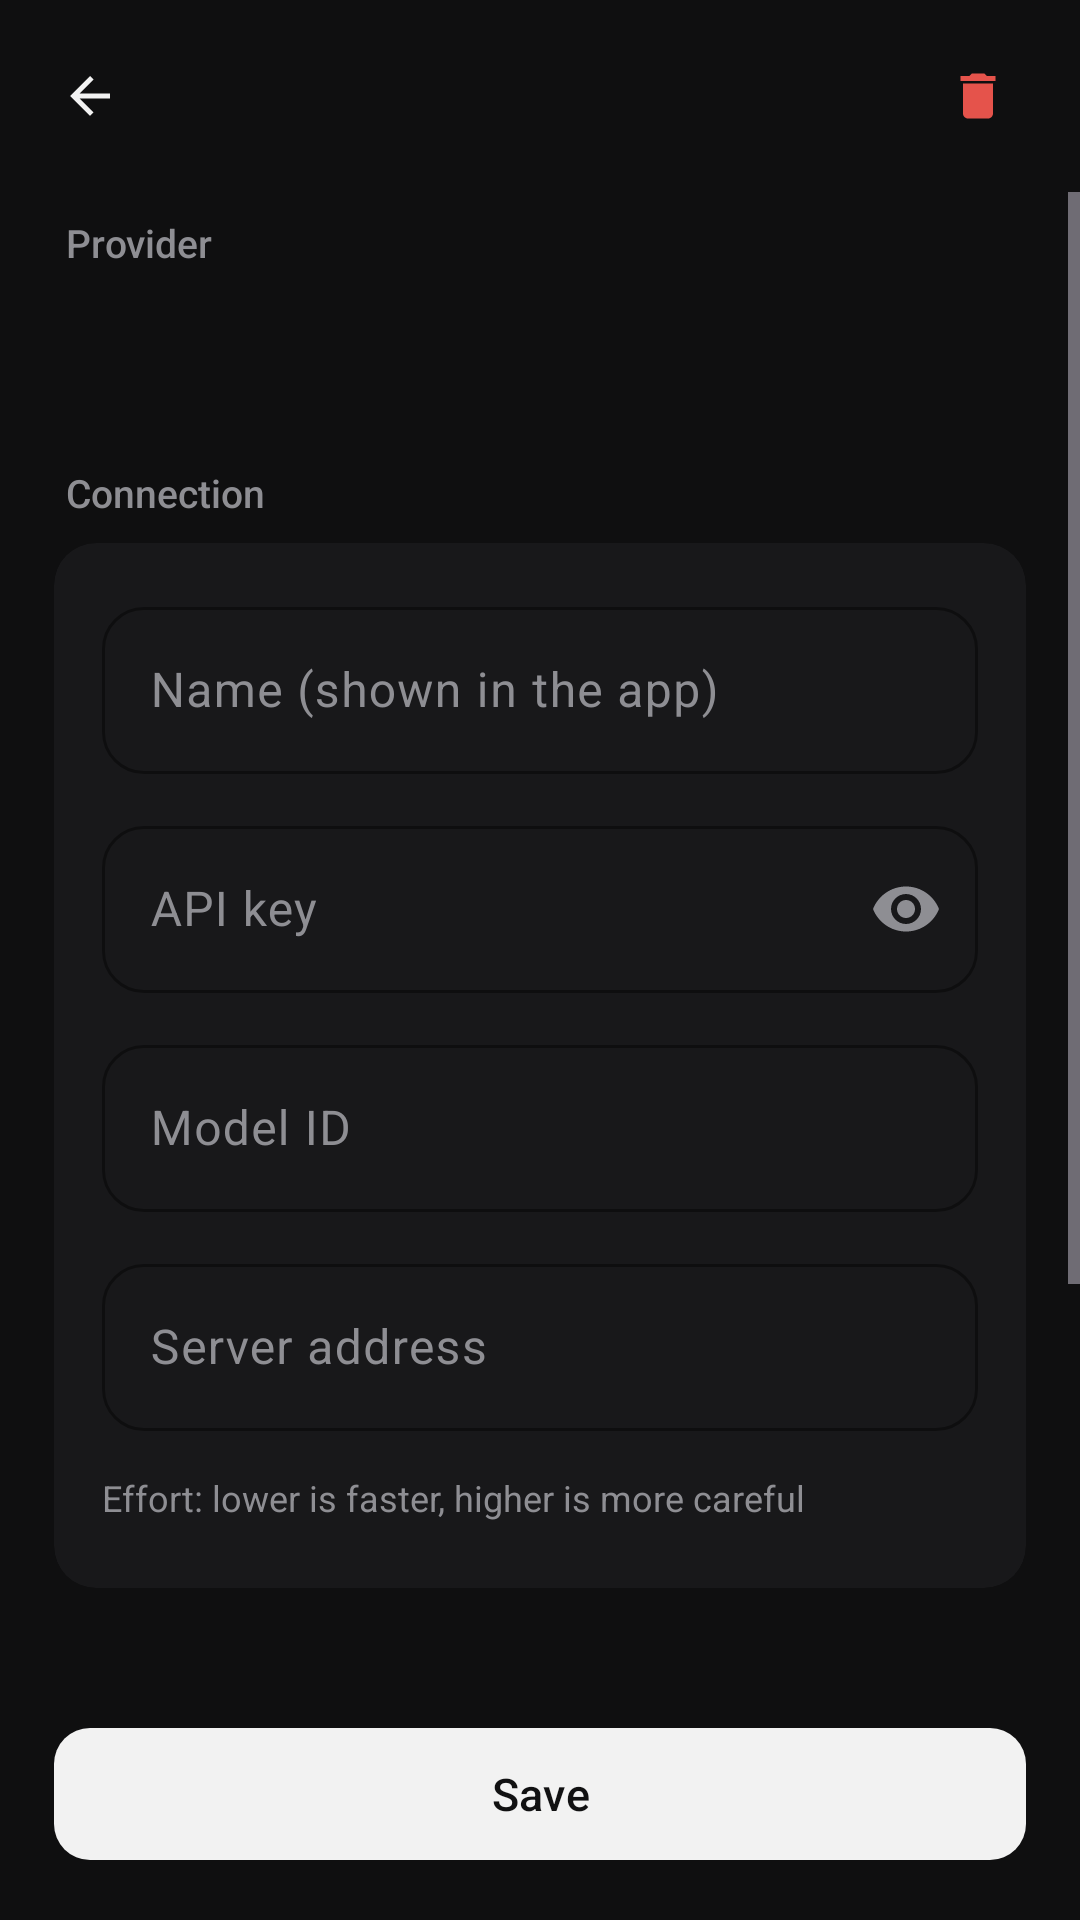

Locate icon controls on the screen. Image size 1080px x 1920px, boxes as (x1, y1, x2, y2).
Back: (70, 76, 110, 116)
Delete model: (960, 73, 996, 119)
